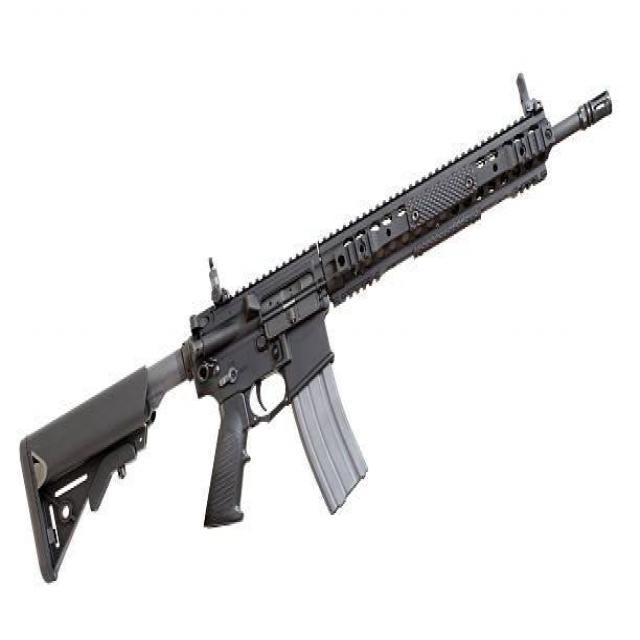weapon: (19, 69, 614, 586)
